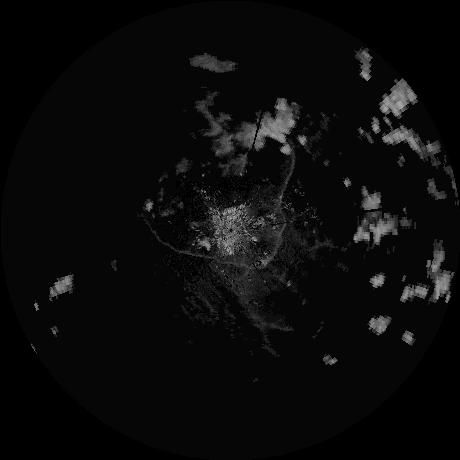frontgust: (140, 216, 257, 269), (262, 149, 297, 268)
